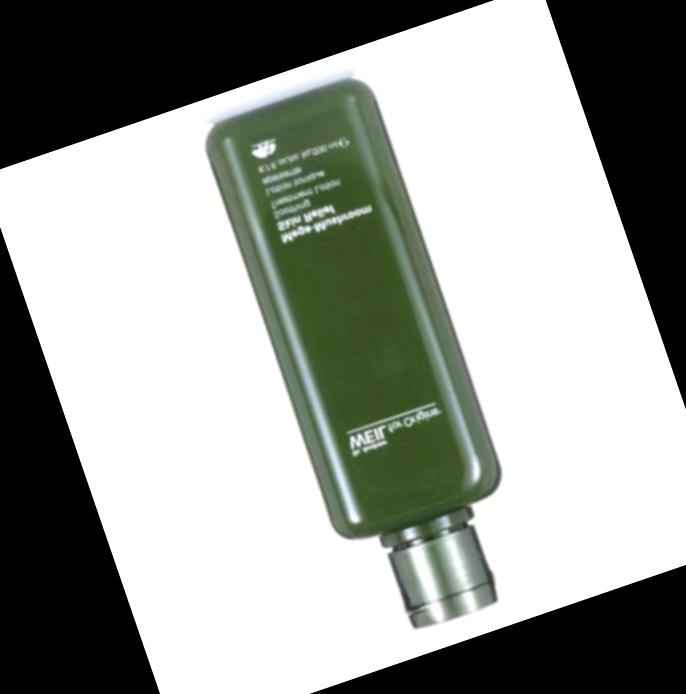cosmetic: (192, 67, 547, 652)
